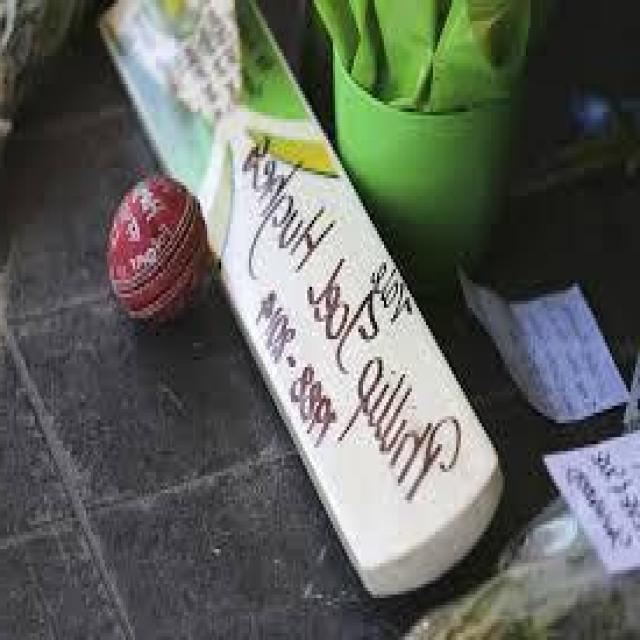ball: (107, 178, 210, 329)
